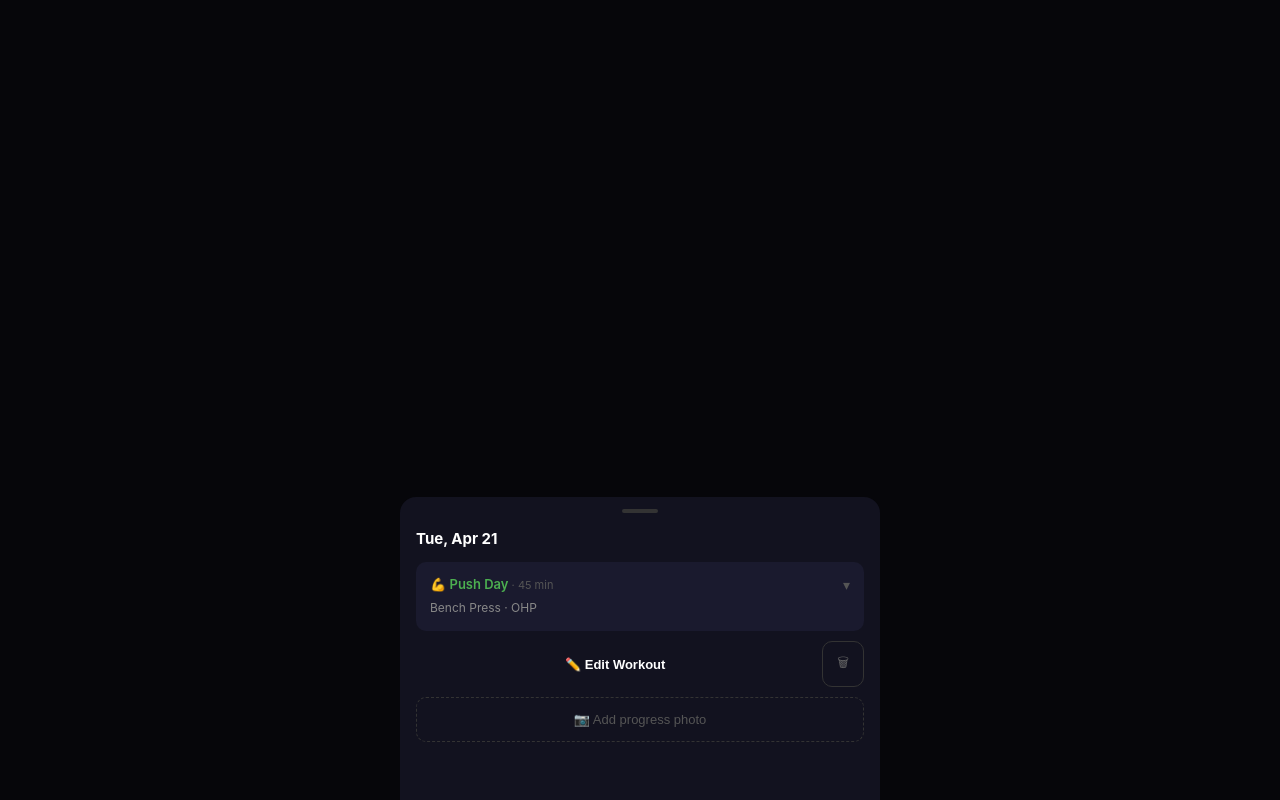
Scenario: DaySheet › expands to show set detail when workout card is tapped
Click the element with test id "workout-card": (640, 596) [416, 562, 864, 631]
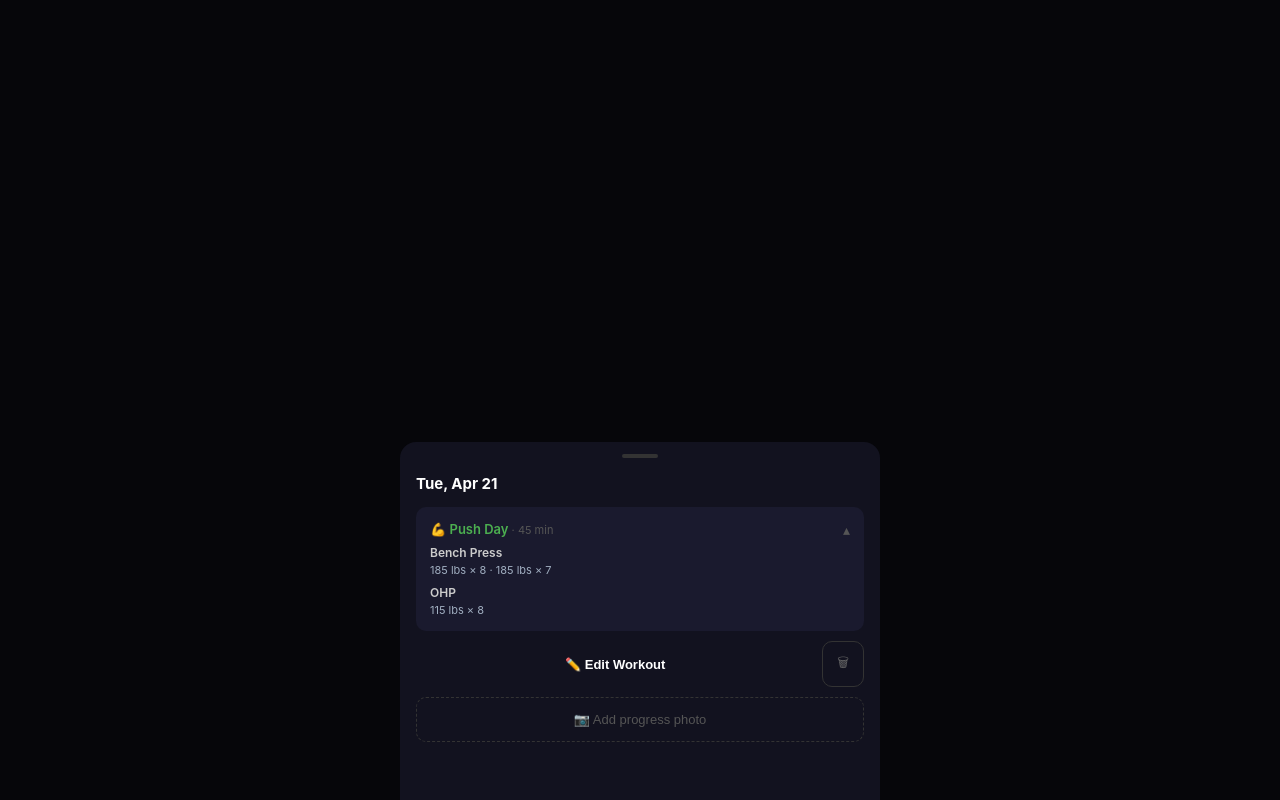
Expected: the text "185 lbs × 8 · 185 lbs × 7" is shown, [430, 563, 552, 577]
Expected: the text "115 lbs × 8" is shown, [430, 603, 484, 617]
